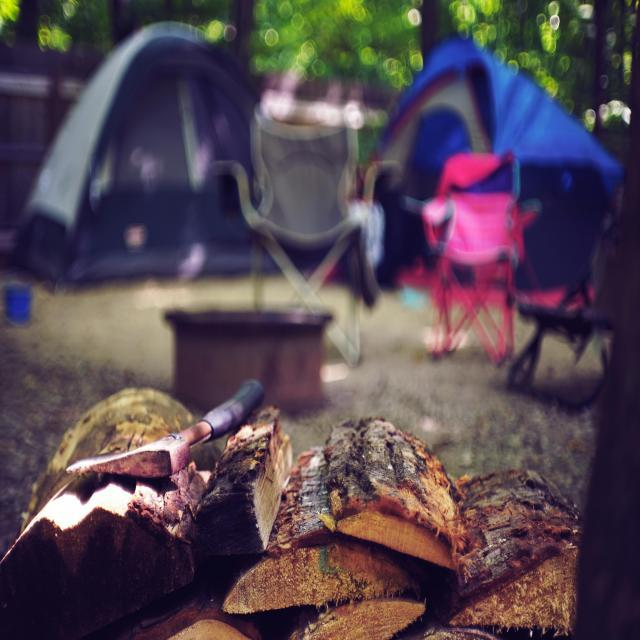Axe: (67, 380, 264, 478)
